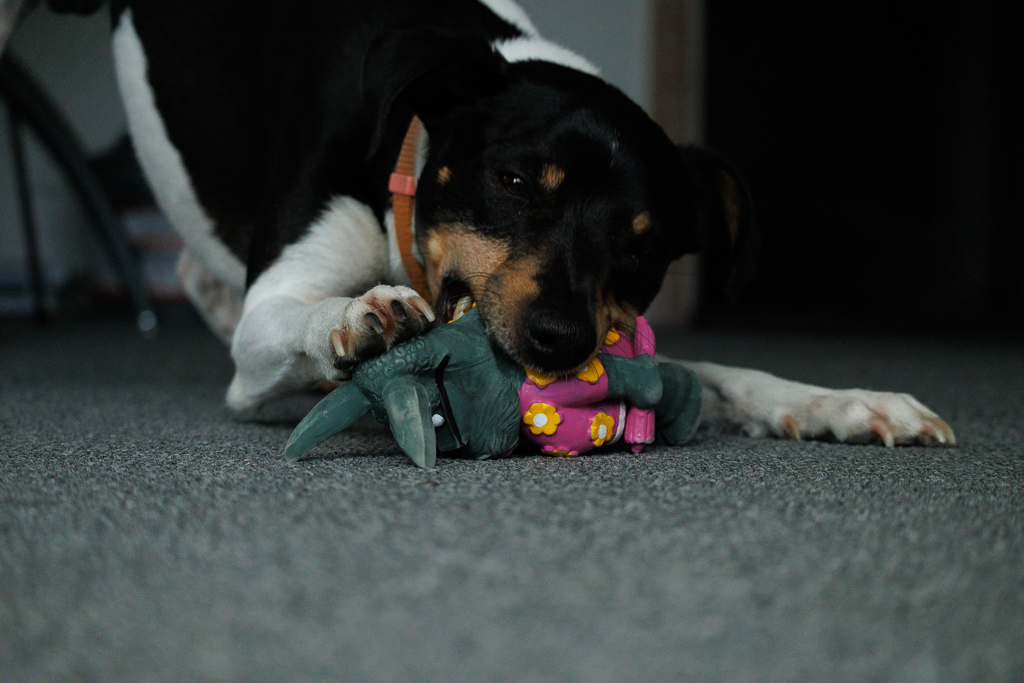Dog: (97, 0, 981, 460)
Humanoid: (270, 274, 723, 478)
